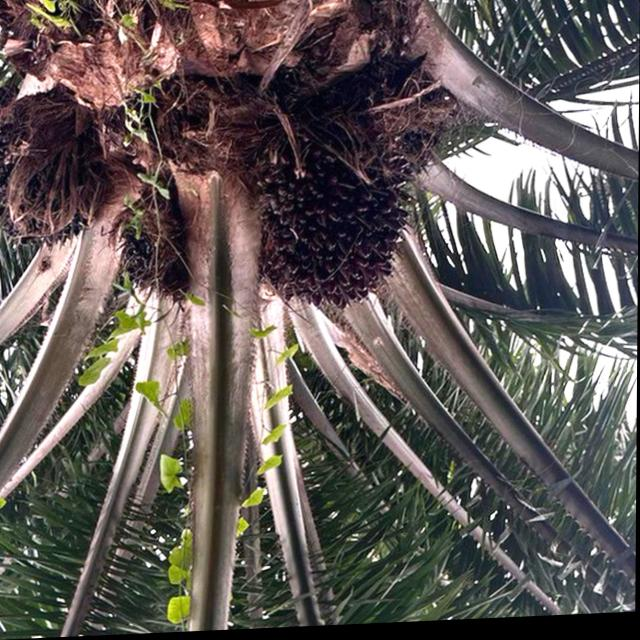ripe: (240, 150, 434, 329)
